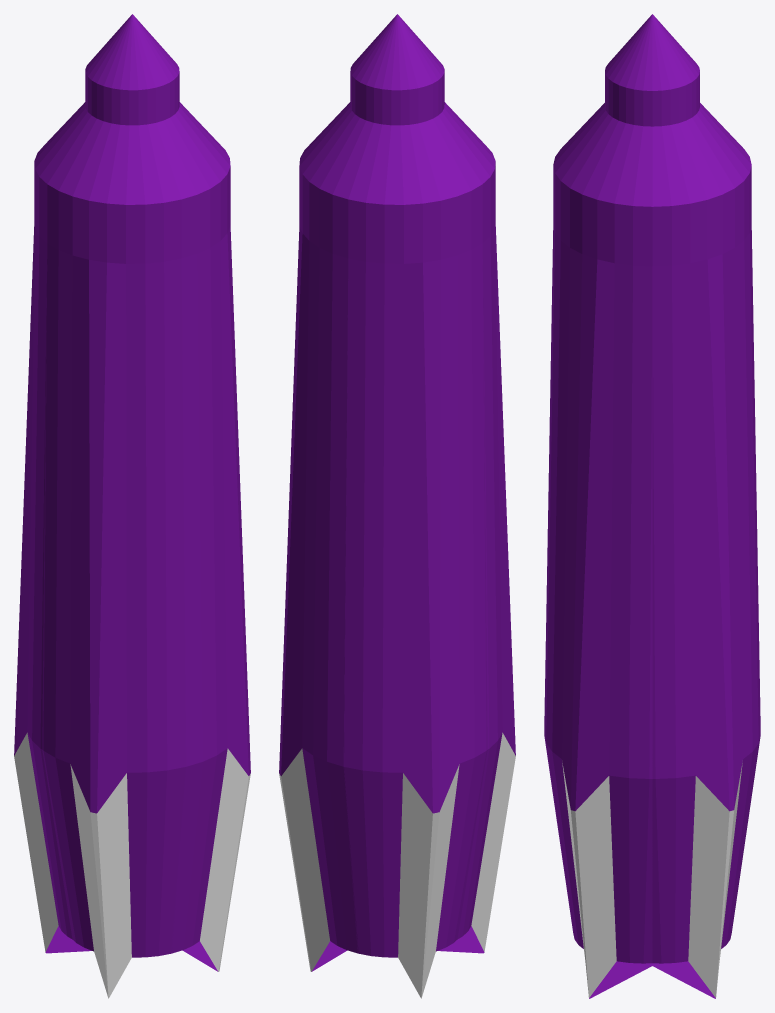
File: missile.fbx
The picture shows the model from 3 angles, left to right: view 1: azimuth 30°, elevation 25°; view 2: azimuth 150°, elevation 25°; view 3: azimuth 270°, elevation 25°; orthographic projection.
Parts seen in each view (by area): view 1: Cube; view 2: Cube; view 3: Cube.
Part boxes in pixels (x1,y1,x2,y2): Cube: [14, 14, 250, 998]; Cube: [279, 14, 515, 998]; Cube: [544, 14, 760, 998].
Size of the model in its own units: 0.5145 by 2.58 by 0.5283.
